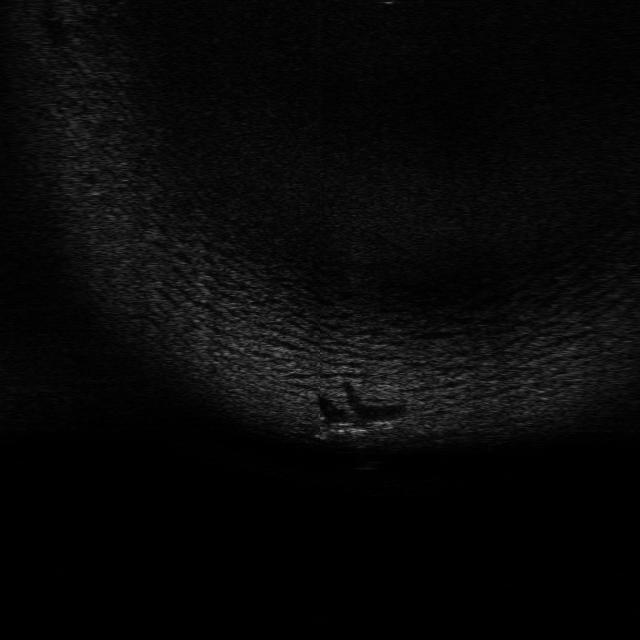plane: (308, 419, 392, 440)
